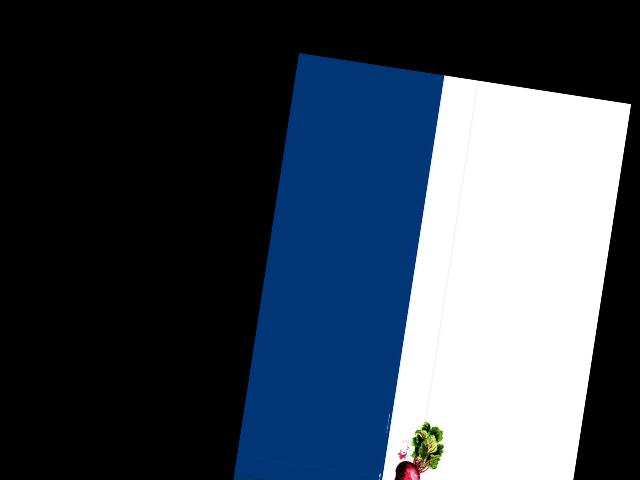beet: (388, 417, 447, 480)
